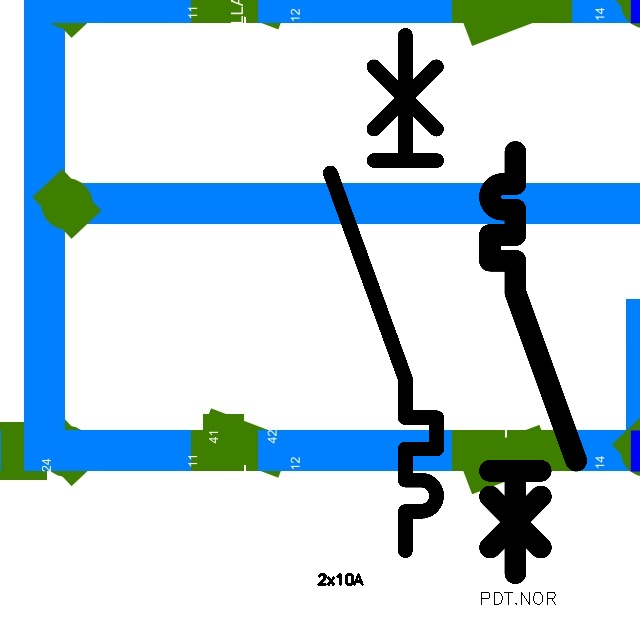interruptor_termomagnetico: (317, 22, 450, 564), (479, 141, 587, 584)
